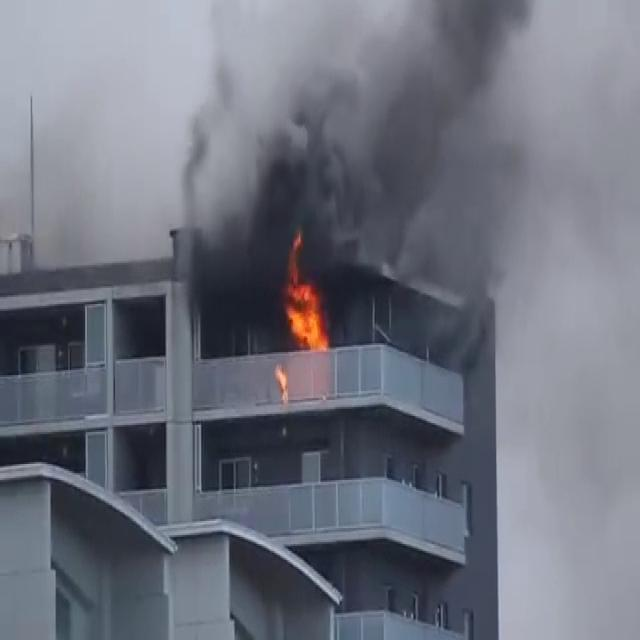Fire: (274, 238, 332, 352)
Smoke: (156, 0, 640, 377)
